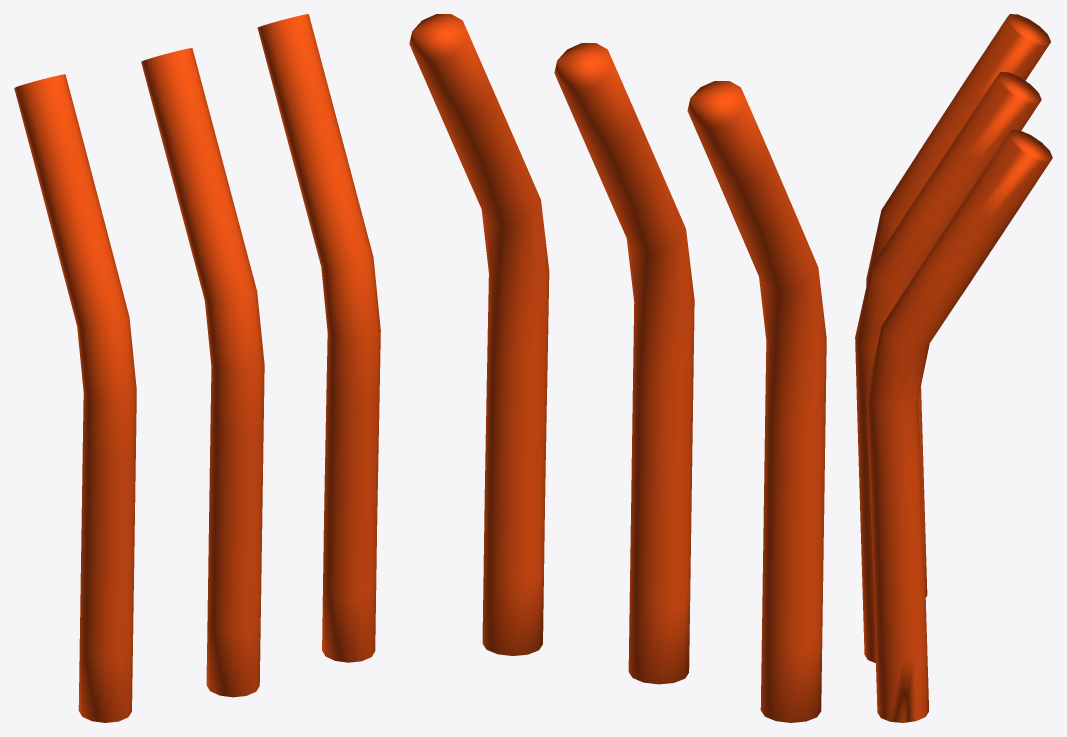
File: Auren-Kest-authored-details.obj
3 renders of one model, left to right at view 1: azimuth 30°, elevation 25°; view 2: azimuth 150°, elevation 25°; view 3: azimuth 270°, elevation 25°, orthographic. The views are drawn at different scales.
Bounding box in the file's own units: 0.0428 × 0.0838 × 0.026.
